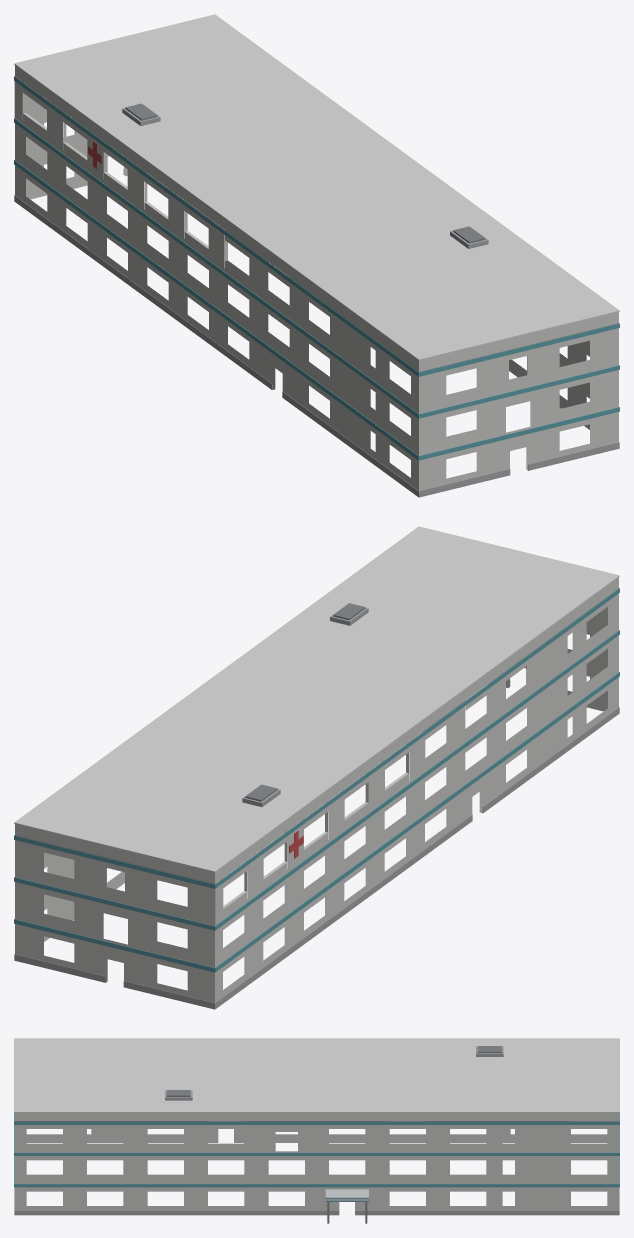
File: hosp-west.reveal-v1.lod1.glb
The picture shows the model from 3 angles, top to bottom: view 1: azimuth 30°, elevation 25°; view 2: azimuth 150°, elevation 25°; view 3: azimuth 270°, elevation 25°; orthographic projection. The views are drawn at different scales.
Parts seen in each view (by area): view 1: hosp-west; view 2: hosp-west; view 3: hosp-west.
Part boxes in pixels (x1,y1,x2,y2): hosp-west: [14, 14, 619, 497]; hosp-west: [14, 526, 619, 1009]; hosp-west: [14, 1038, 619, 1223].
Size of the model in its own units: 22.71 by 13.76 by 70.12.
